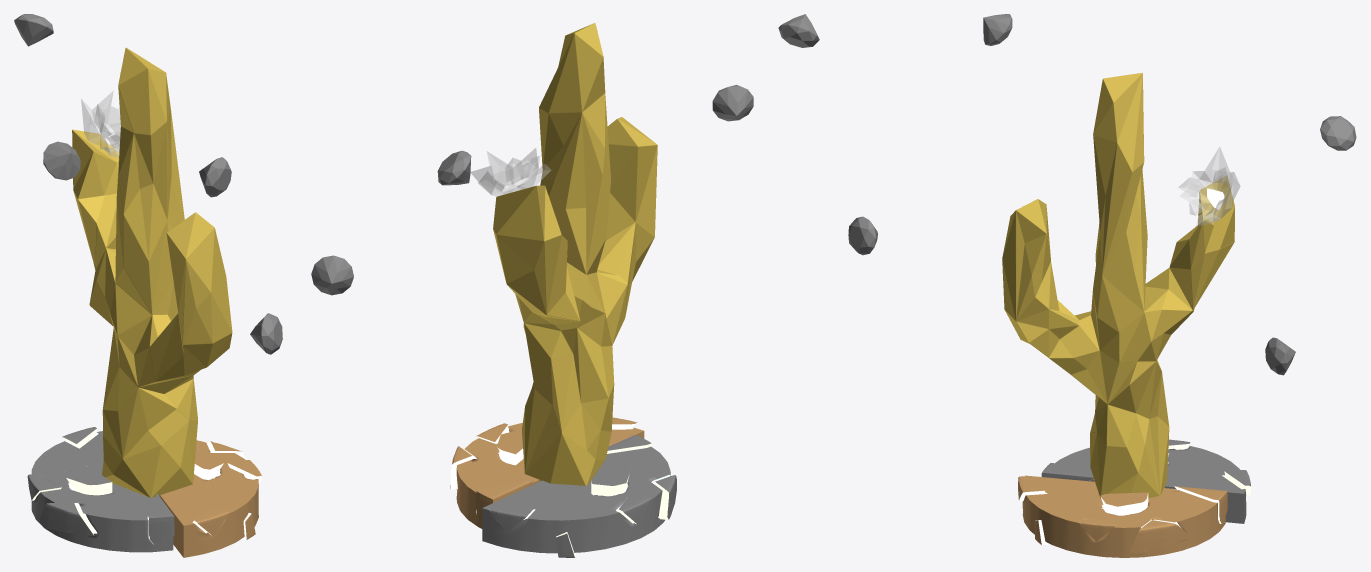
Rendered from gold.gltf.
3 renders of one model, left to right at view 1: azimuth 30°, elevation 25°; view 2: azimuth 150°, elevation 25°; view 3: azimuth 270°, elevation 25°, orthographic. The views are drawn at different scales.
Visible parts, largest first — view 1: Retopo_Cylinder.007_cell.002; view 2: Retopo_Cylinder.007_cell.002; view 3: Retopo_Cylinder.007_cell.002.
Boxes of the visible parts, x1,y1,x2,y2 form: Retopo_Cylinder.007_cell.002: (14, 14, 282, 557); Retopo_Cylinder.007_cell.002: (311, 14, 819, 557); Retopo_Cylinder.007_cell.002: (848, 14, 1356, 557).
Size of the model in its own units: 4.46 by 5.88 by 6.18.
